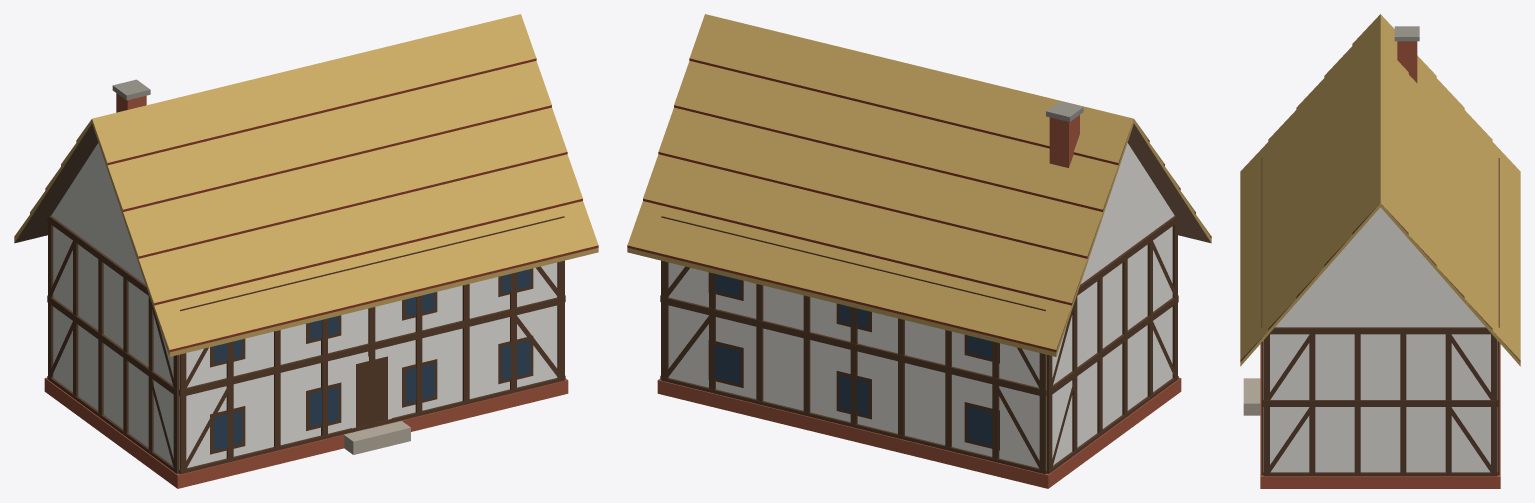
File: maison_normande.glb
The picture shows the model from 3 angles, left to right: view 1: azimuth 30°, elevation 25°; view 2: azimuth 150°, elevation 25°; view 3: azimuth 270°, elevation 25°; orthographic projection. The views are drawn at different scales.
Parts seen in each view (by area): view 1: maison_normande; view 2: maison_normande; view 3: maison_normande.
Part boxes in pixels (<box>): maison_normande: <box>14,14,598,488</box>; maison_normande: <box>627,14,1211,488</box>; maison_normande: <box>1240,14,1520,488</box>.
Bounding box in the file's own units: 13.4 × 9.95 × 8.4.
1 material, 1 textured.
